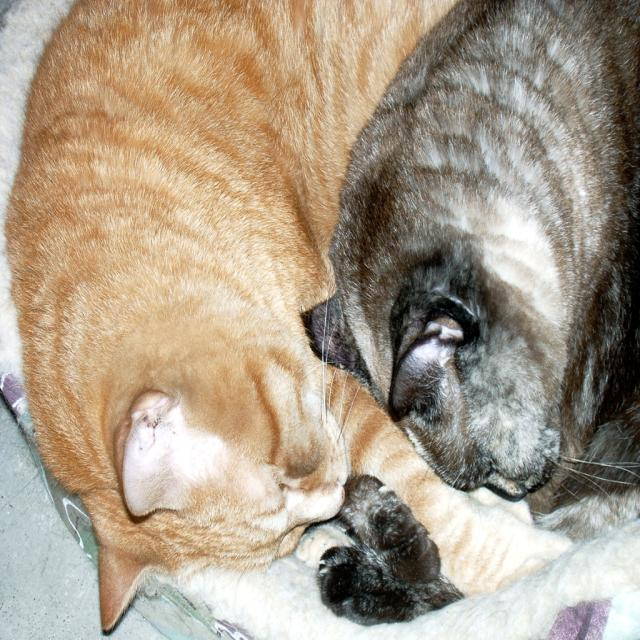Cat: (0, 0, 572, 630), (297, 0, 639, 625)
